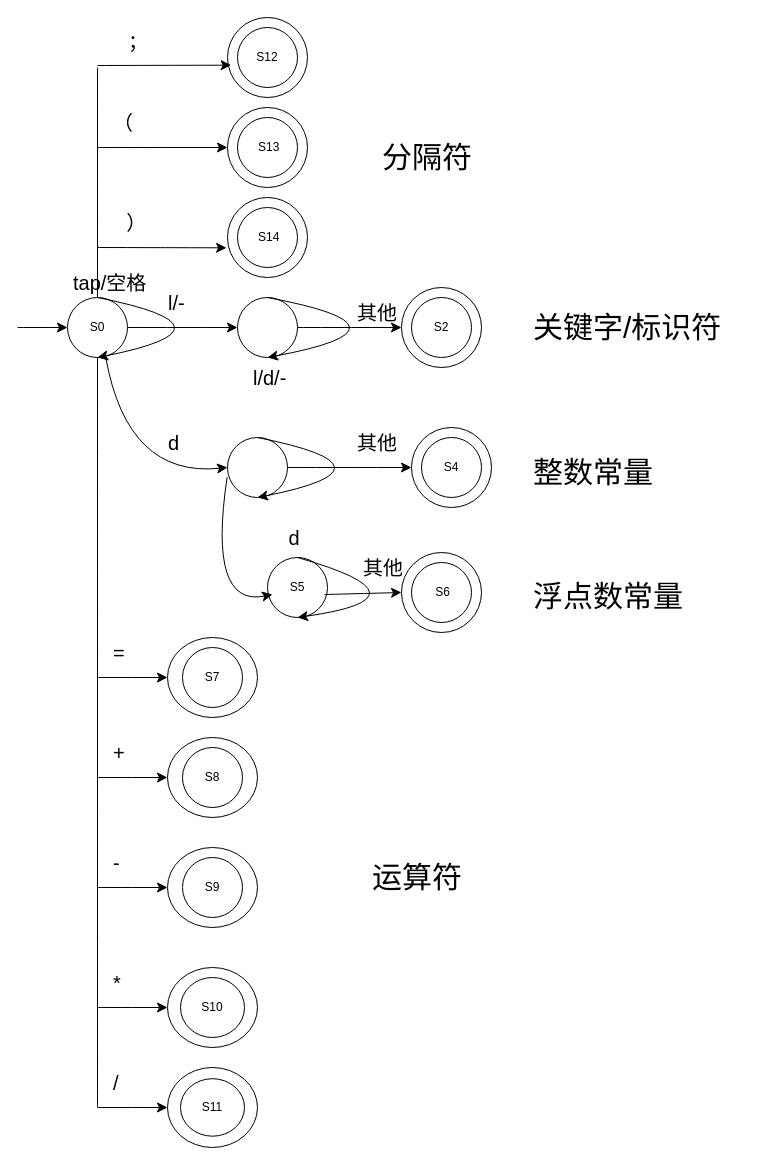
Some shapes in this 775 by 1165 pixel diagram are drawn without their labels. Here are the shapes that lost their labels. From the top down, the centre of each, then its label:
At point (267, 327): "S1".
At point (257, 467): "S3".
